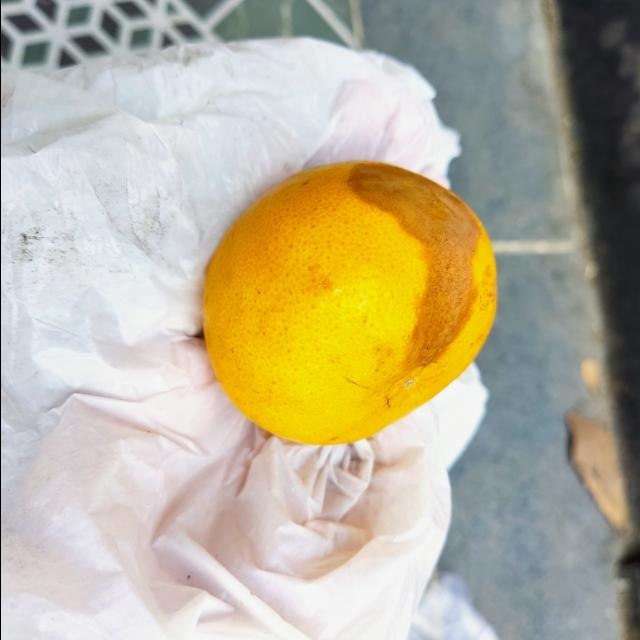agrume: (196, 161, 503, 447)
